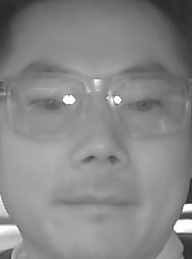eye: (29, 95, 62, 114), (125, 98, 163, 114)
glass: (6, 69, 89, 140), (107, 68, 188, 140)
mouth: (56, 185, 130, 226)
